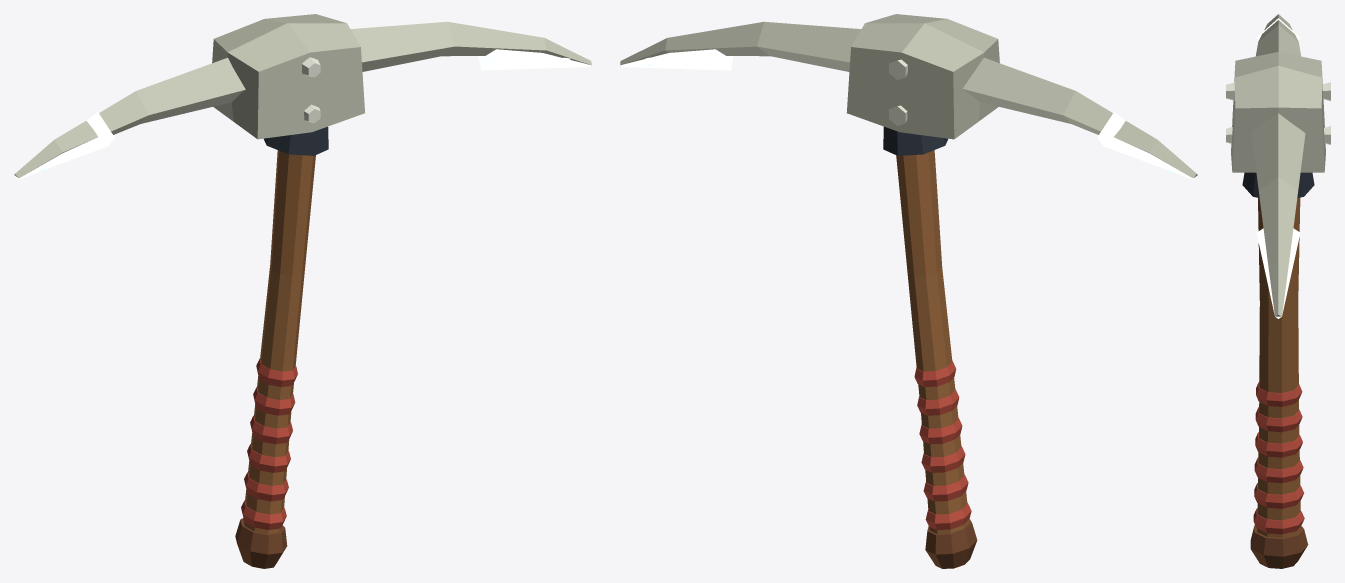
File: wellglass_pickaxe_world.glb
3 renders of one model, left to right at view 1: azimuth 30°, elevation 25°; view 2: azimuth 150°, elevation 25°; view 3: azimuth 270°, elevation 25°, orthographic. The views are drawn at different scales.
Visible parts, largest first — view 1: Pick_Eye.008, Handle.018, Pick_Arm_Left.008, Pick_Arm_Right.008, Handle_Butt.018, Pick_Tip_Right.008, Wellglass_Socket, Pick_Tip_Left.008, Grip_Wrap_1.018, Grip_Wrap_2.018; view 2: Pick_Eye.008, Handle.018, Pick_Arm_Left.008, Pick_Arm_Right.008, Handle_Butt.018, Pick_Tip_Right.008, Wellglass_Socket, Pick_Tip_Left.008, Grip_Wrap_1.018, Grip_Wrap_2.018; view 3: Pick_Eye.008, Handle.018, Pick_Arm_Right.008, Handle_Butt.018, Pick_Arm_Left.008, Pick_Tip_Right.008, Grip_Wrap_1.018, Grip_Wrap_2.018, Grip_Wrap_3.018, Grip_Wrap_4.018, Grip_Wrap_5.018, Grip_Wrap_6.018 (+1 smaller).
Part boxes in pixels (bbox=[...]): Pick_Eye.008: bbox=[212, 14, 364, 139]; Handle.018: bbox=[243, 150, 315, 533]; Pick_Arm_Left.008: bbox=[14, 57, 245, 178]; Pick_Arm_Right.008: bbox=[350, 21, 591, 71]; Handle_Butt.018: bbox=[235, 518, 287, 568]; Pick_Tip_Right.008: bbox=[478, 49, 590, 70]; Wellglass_Socket: bbox=[264, 126, 328, 155]; Pick_Tip_Left.008: bbox=[14, 112, 114, 179]; Grip_Wrap_1.018: bbox=[241, 500, 286, 529]; Grip_Wrap_2.018: bbox=[244, 472, 288, 501]; Pick_Eye.008: bbox=[846, 14, 999, 139]; Handle.018: bbox=[896, 150, 969, 533]; Pick_Arm_Left.008: bbox=[963, 57, 1197, 178]; Pick_Arm_Right.008: bbox=[620, 21, 861, 71]; Handle_Butt.018: bbox=[925, 519, 977, 568]; Pick_Tip_Right.008: bbox=[620, 49, 733, 70]; Wellglass_Socket: bbox=[883, 126, 947, 155]; Pick_Tip_Left.008: bbox=[1097, 112, 1197, 179]; Grip_Wrap_1.018: bbox=[925, 503, 971, 529]; Grip_Wrap_2.018: bbox=[923, 474, 968, 501]; Pick_Eye.008: bbox=[1231, 52, 1325, 172]; Handle.018: bbox=[1257, 197, 1300, 537]; Pick_Arm_Right.008: bbox=[1251, 113, 1305, 316]; Handle_Butt.018: bbox=[1250, 525, 1308, 568]; Pick_Arm_Left.008: bbox=[1255, 14, 1301, 56]; Pick_Tip_Right.008: bbox=[1256, 228, 1300, 318]; Grip_Wrap_1.018: bbox=[1253, 508, 1304, 534]; Grip_Wrap_2.018: bbox=[1254, 483, 1303, 508]; Grip_Wrap_3.018: bbox=[1254, 457, 1303, 483]; Grip_Wrap_4.018: bbox=[1255, 432, 1302, 457]; Grip_Wrap_5.018: bbox=[1255, 407, 1302, 432]; Grip_Wrap_6.018: bbox=[1256, 382, 1302, 406].
Bounding box in the file's own units: 1.45 × 1.28 × 0.238.
